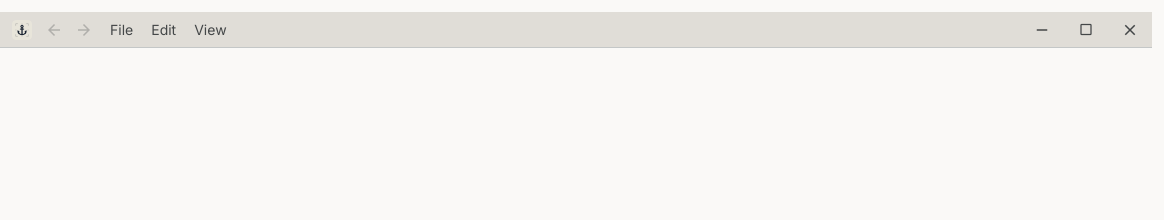
it: <TitleBar /> › closes the View menu on Escape
The image size is (1164, 220).
Click the button "View" at (210, 30), box left=186, top=16, right=235, bottom=44
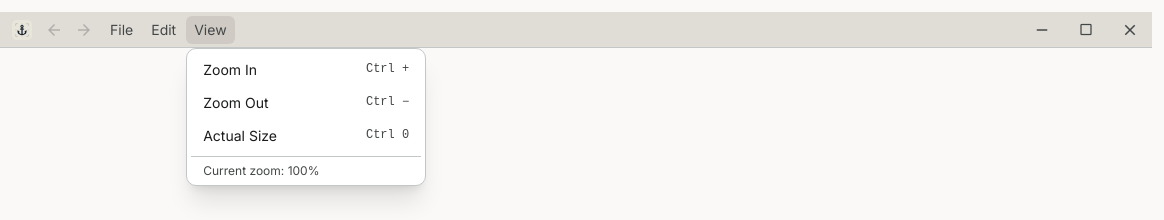
expect the menu is shown: met, box left=186, top=48, right=426, bottom=186
Press Escape
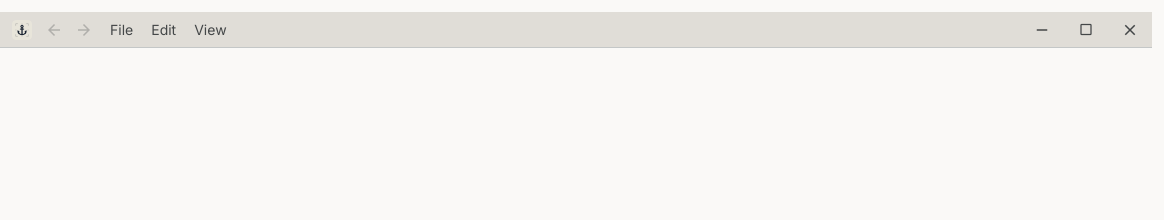
expect the menu is gone: met
